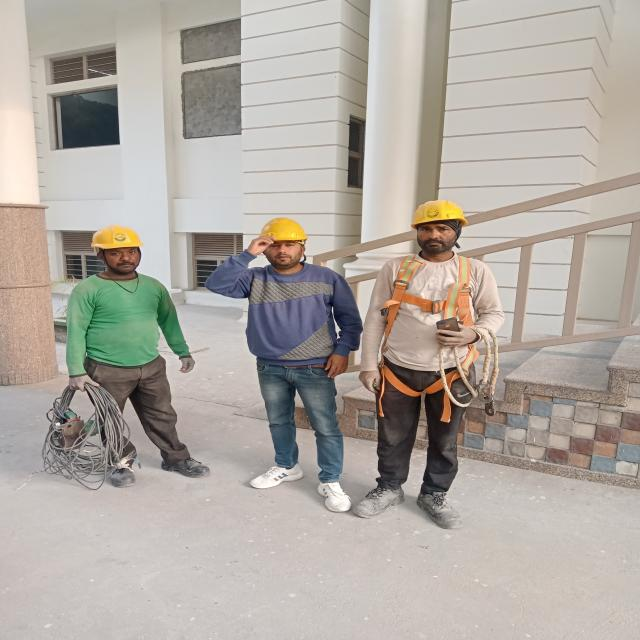no jacket: (198, 217, 370, 518), (60, 224, 220, 493), (370, 203, 499, 531)
